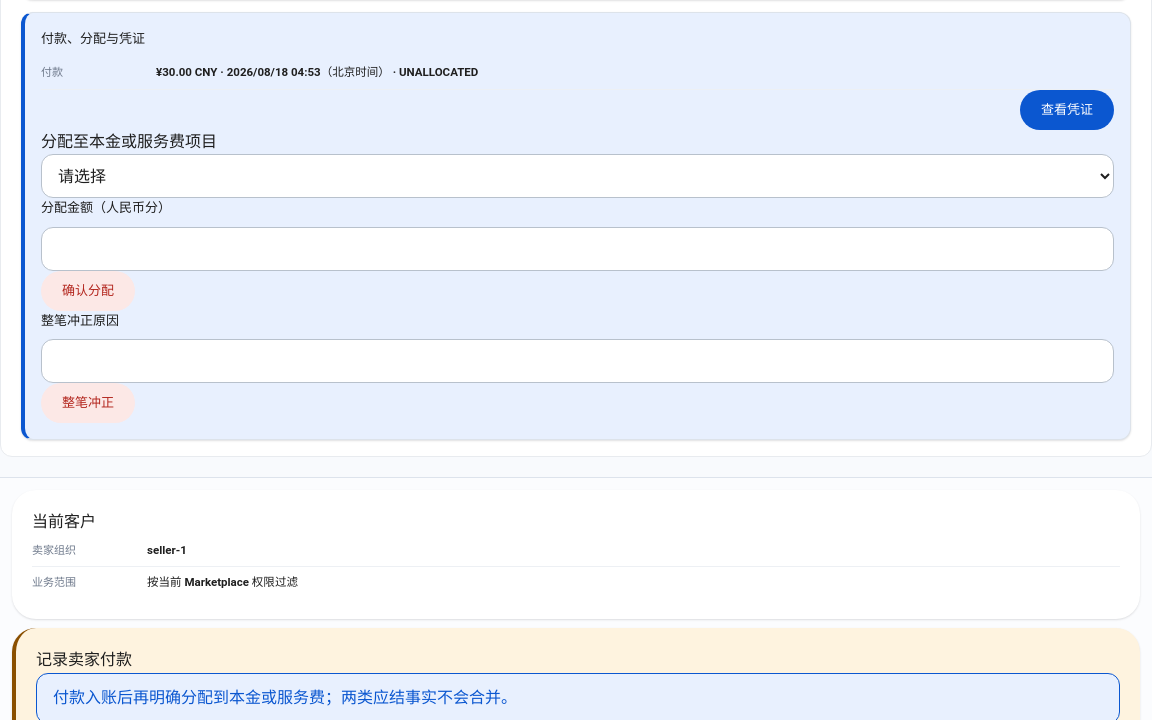
canonical Seller Settlement panel › reverses a whole seller payment with its authoritative version, idempotency key, and refreshed server facts
(page scrolled)
Expected: the text "¥30.00 CNY · 2026/08/18 04:53（北京时间） · UNALLOCATED" is shown, [156, 65, 478, 79]
In the field labelled "整笔冲正原因": (578, 361) [41, 339, 1114, 383], type "付款凭证重复"
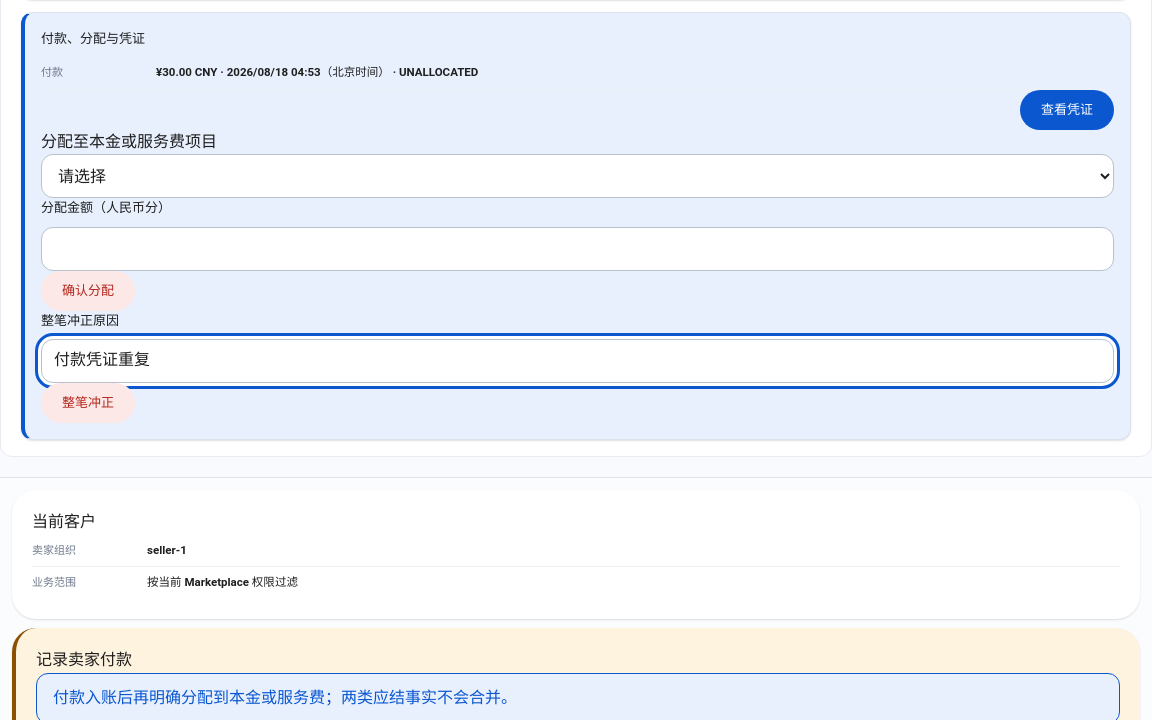
Click the button "整笔冲正": click(88, 403) [41, 383, 135, 423]
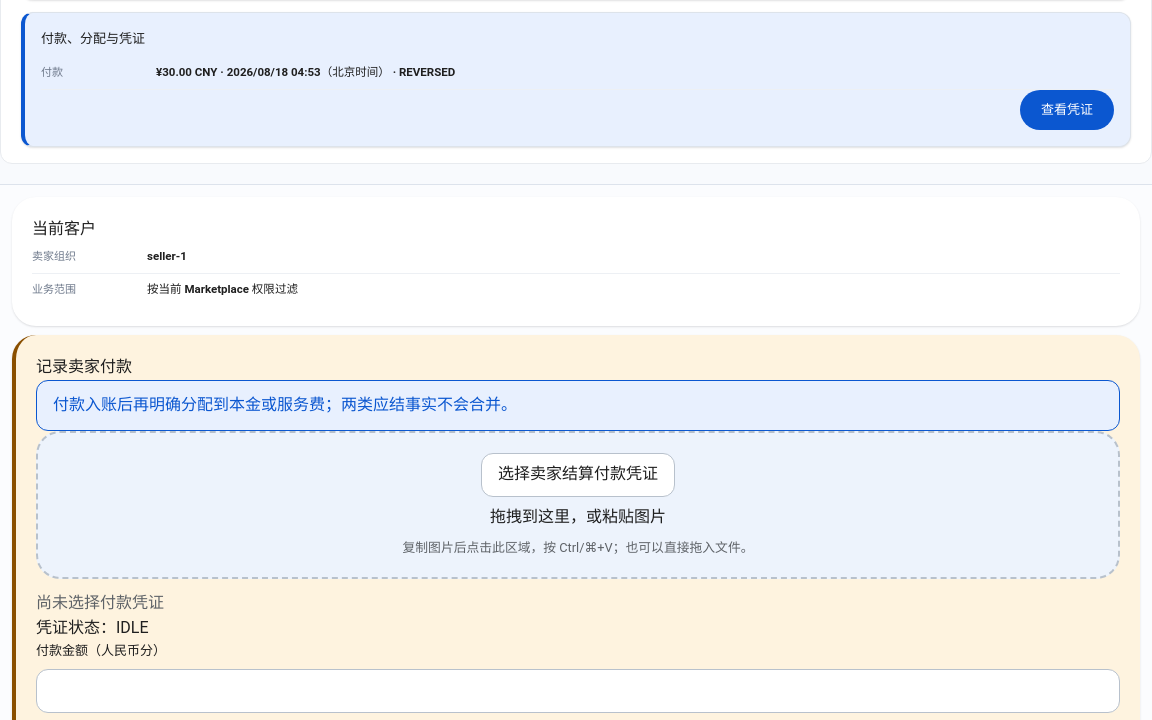
Expected: the text "¥30.00 CNY · 2026/08/18 04:53（北京时间） · REVERSED" is shown, [156, 65, 455, 79]
Expected: the text "¥30.00 CNY · 2026/08/18 04:53（北京时间） · UNALLOCATED" is gone
